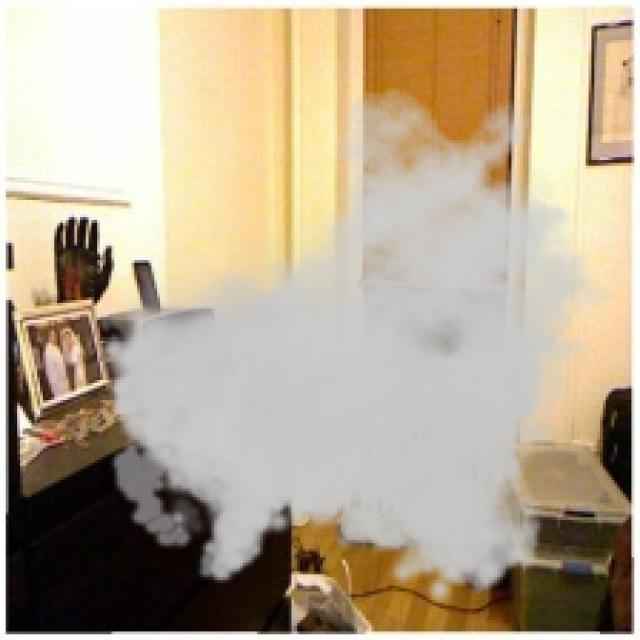smoke: (97, 85, 634, 606)
